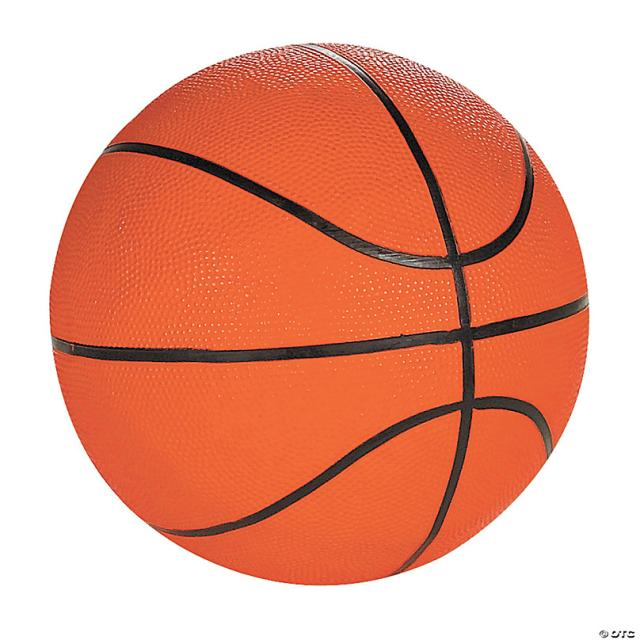non_orange: (42, 37, 568, 574)
